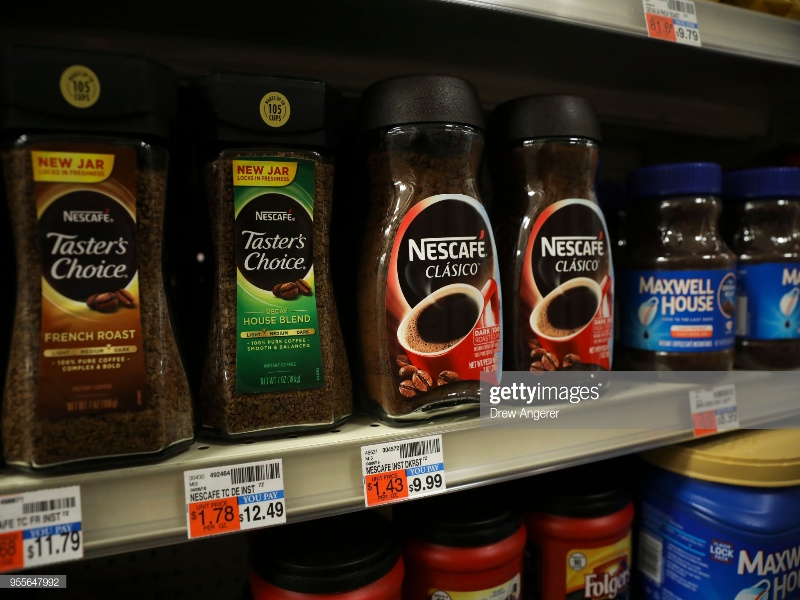nescafe-classic/gold-med: (9, 66, 194, 446), (199, 68, 358, 415), (364, 65, 510, 422), (512, 69, 616, 372)
